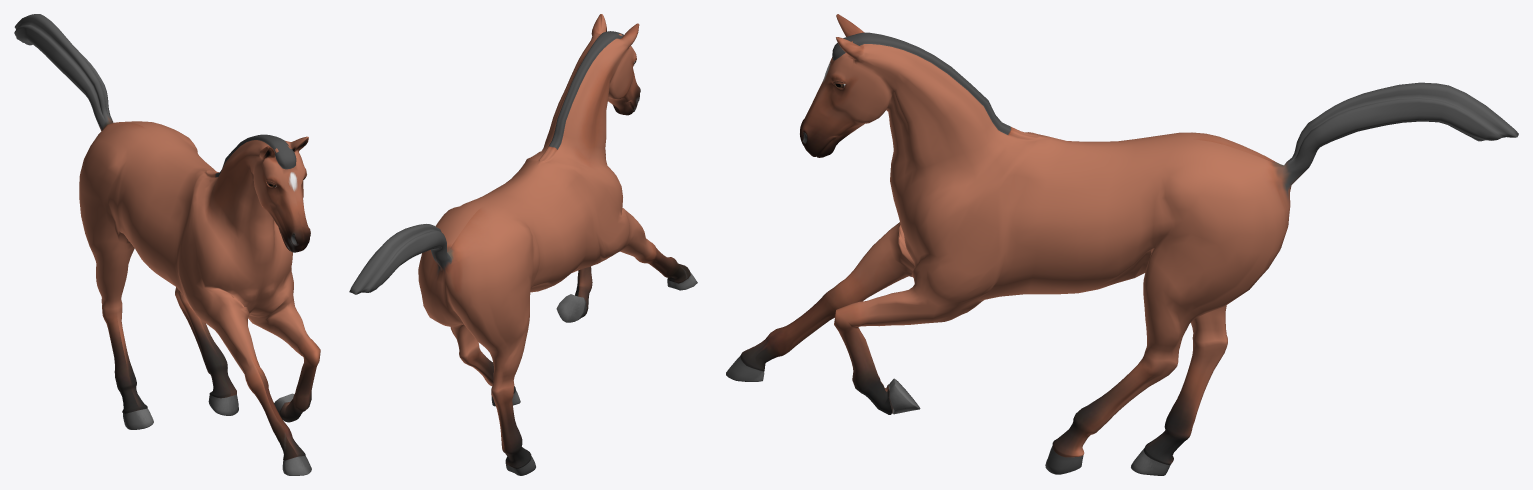
The model's file is horse_obj_8.obj.
3 renders of one model, left to right at view 1: azimuth 30°, elevation 25°; view 2: azimuth 150°, elevation 25°; view 3: azimuth 270°, elevation 25°, orthographic. The views are drawn at different scales.
Parts seen in each view (by area): view 1: Figure_1; view 2: Figure_1; view 3: Figure_1.
Boxes of the visible parts, x1,y1,x2,y2 form: Figure_1: (14, 14, 320, 475); Figure_1: (349, 14, 697, 475); Figure_1: (726, 14, 1518, 475).
Bounding box in the file's own units: 0.2421 × 0.8493 × 1.32.
7 materials, 7 textured.
